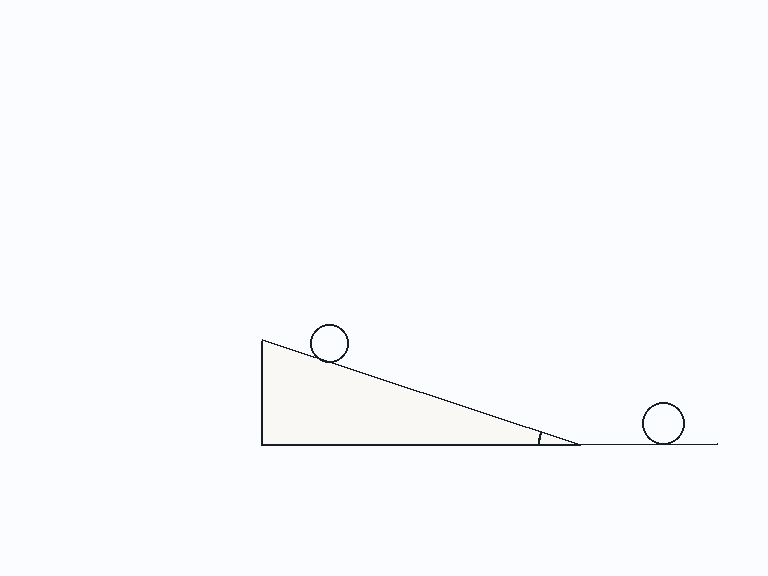ball: (640, 400, 686, 446), (308, 322, 350, 364)
ramp: (259, 339, 581, 446)
